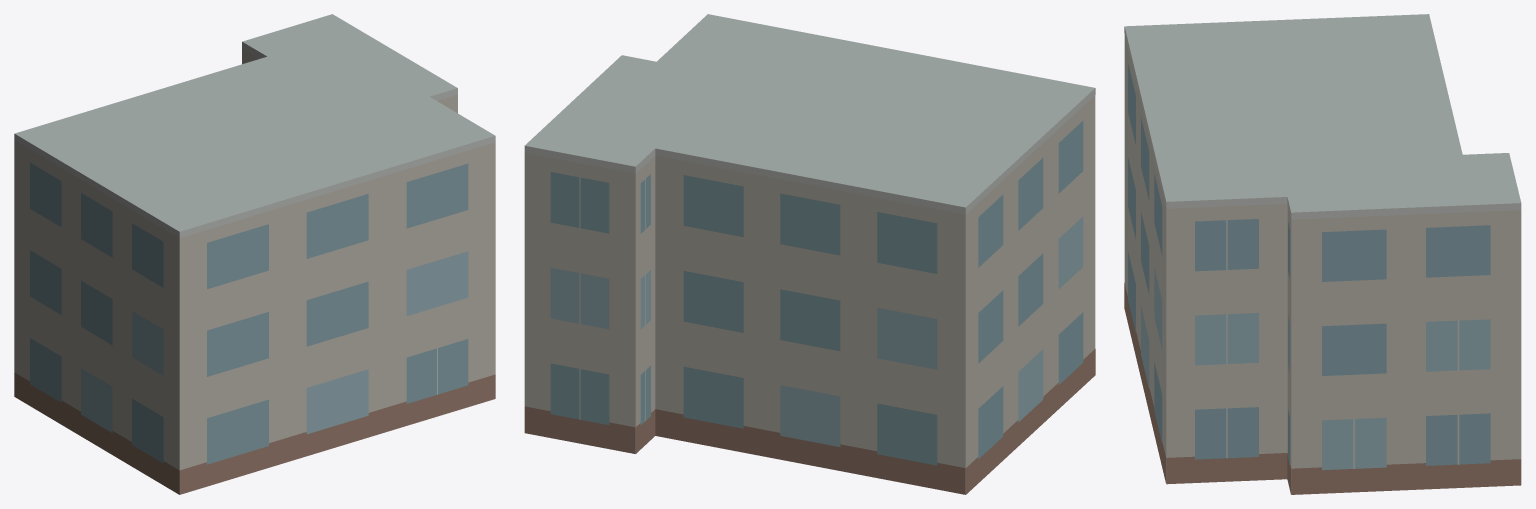
The model's file is survey-upis-32971370.glb.
3 views of the same model, side by side, from view 1: azimuth 30°, elevation 25°; view 2: azimuth 150°, elevation 25°; view 3: azimuth 270°, elevation 25° (orthographic). The views are drawn at different scales.
Visible parts, largest first — view 1: survey-upis-32971370.tmp; view 2: survey-upis-32971370.tmp; view 3: survey-upis-32971370.tmp.
Part boxes in pixels (x1,y1,x2,y2): survey-upis-32971370.tmp: (14, 14, 495, 494); survey-upis-32971370.tmp: (524, 14, 1095, 494); survey-upis-32971370.tmp: (1124, 14, 1521, 494).
Size of the model in its own units: 15.02 by 9.95 by 12.69.
